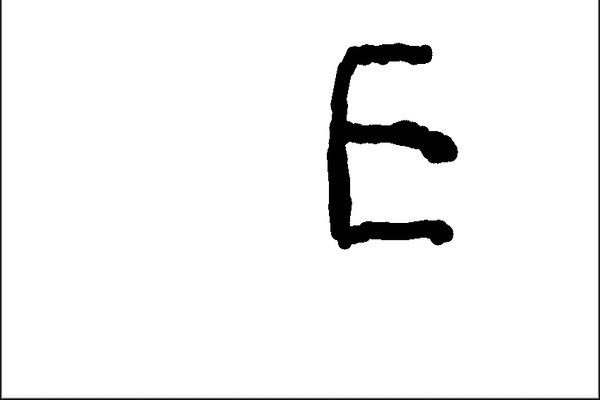E: (321, 38, 464, 253)
